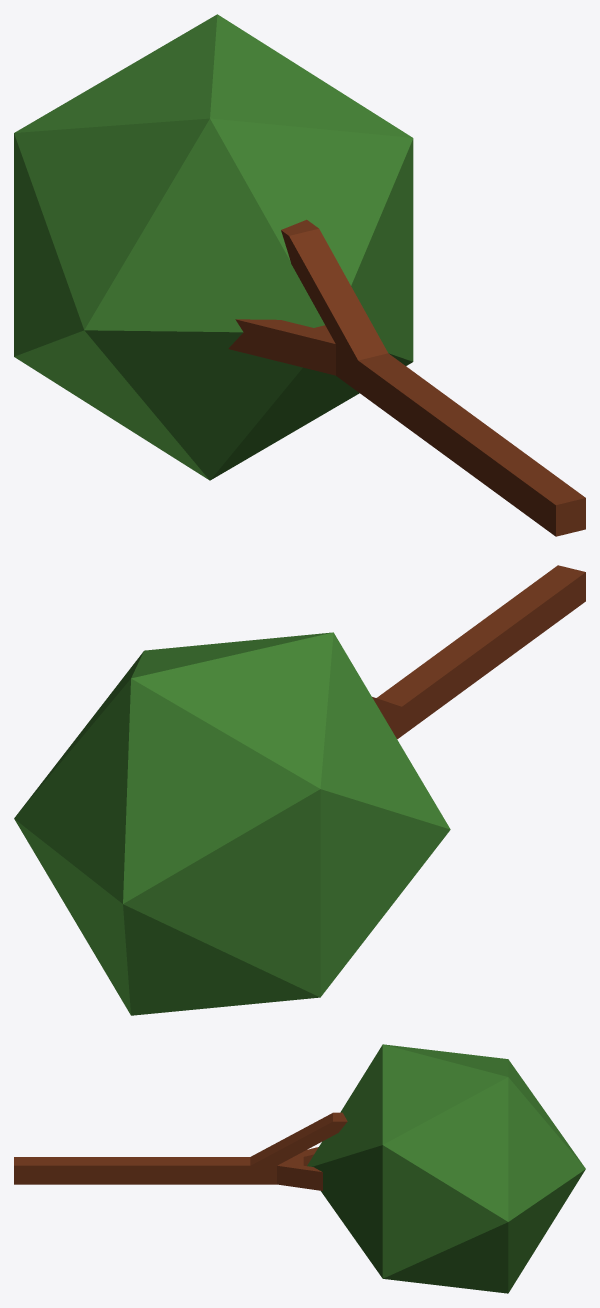
The model's file is tree.fbx.
3 renders of one model, top to bottom at view 1: azimuth 30°, elevation 25°; view 2: azimuth 150°, elevation 25°; view 3: azimuth 270°, elevation 25°, orthographic. The views are drawn at different scales.
Parts seen in each view (by area): view 1: Cube.001; view 2: Cube.001; view 3: Cube.001.
Part boxes in pixels (bbox=[...]): Cube.001: bbox=[14, 14, 585, 536]; Cube.001: bbox=[14, 565, 585, 1015]; Cube.001: bbox=[14, 1044, 585, 1293].
Bounding box in the file's own units: 670 × 637 × 1525.
